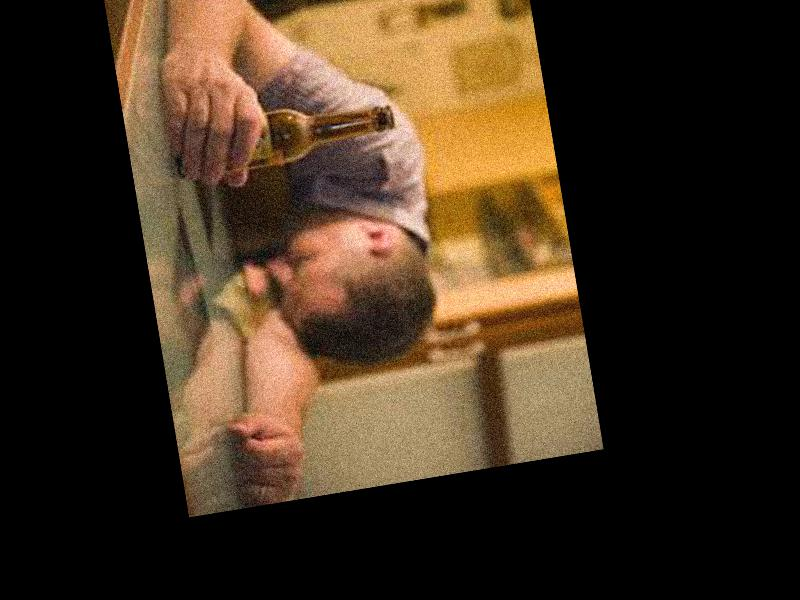Beer: (169, 94, 399, 179)
